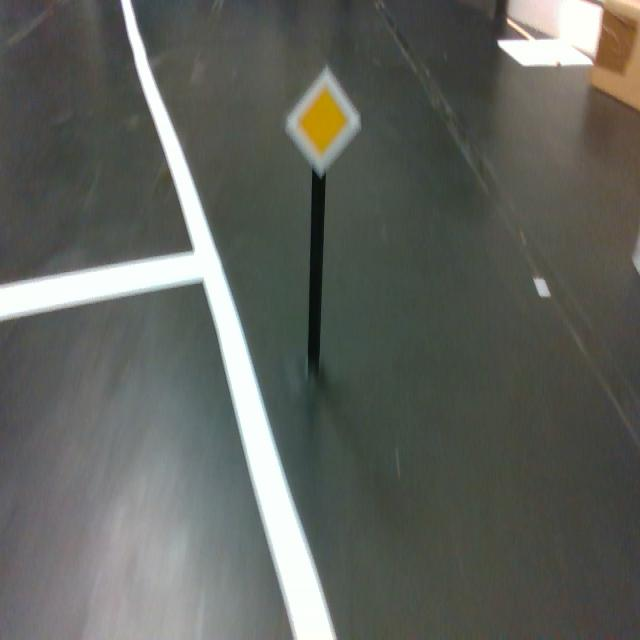priority-sign: (284, 64, 362, 179)
